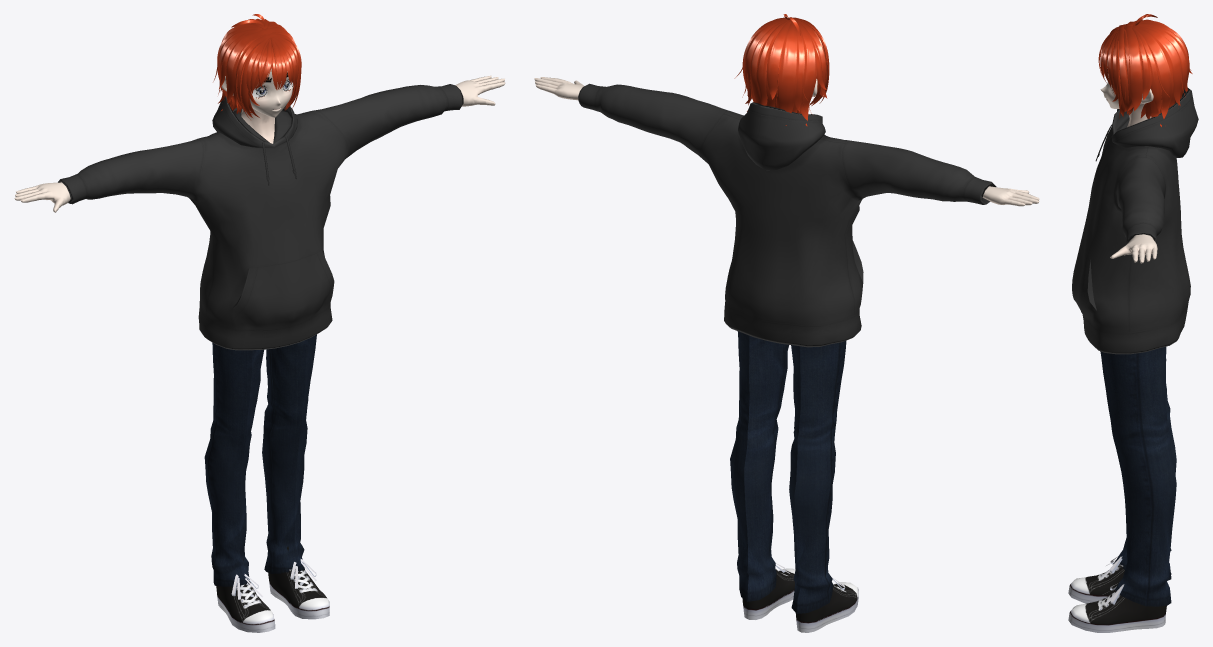
The model's file is FBXISAAC.fbx.
The picture shows the model from 3 angles, left to right: view 1: azimuth 30°, elevation 25°; view 2: azimuth 150°, elevation 25°; view 3: azimuth 270°, elevation 25°; orthographic projection. The views are drawn at different scales.
Parts seen in each view (by area): view 1: Body, Hair, Face; view 2: Body, Hair; view 3: Body, Hair, Face.
Part boxes in pixels (x1,y1,x2,y2): Body: (14, 75, 505, 632); Hair: (213, 14, 301, 119); Face: (221, 68, 294, 117); Body: (534, 77, 1039, 632); Hair: (734, 14, 829, 126); Body: (1068, 19, 1198, 632); Hair: (1098, 14, 1192, 126); Face: (1100, 60, 1153, 108).
Bounding box in the file's own units: 157 × 180 × 35.62.
14 materials, 14 textured.
